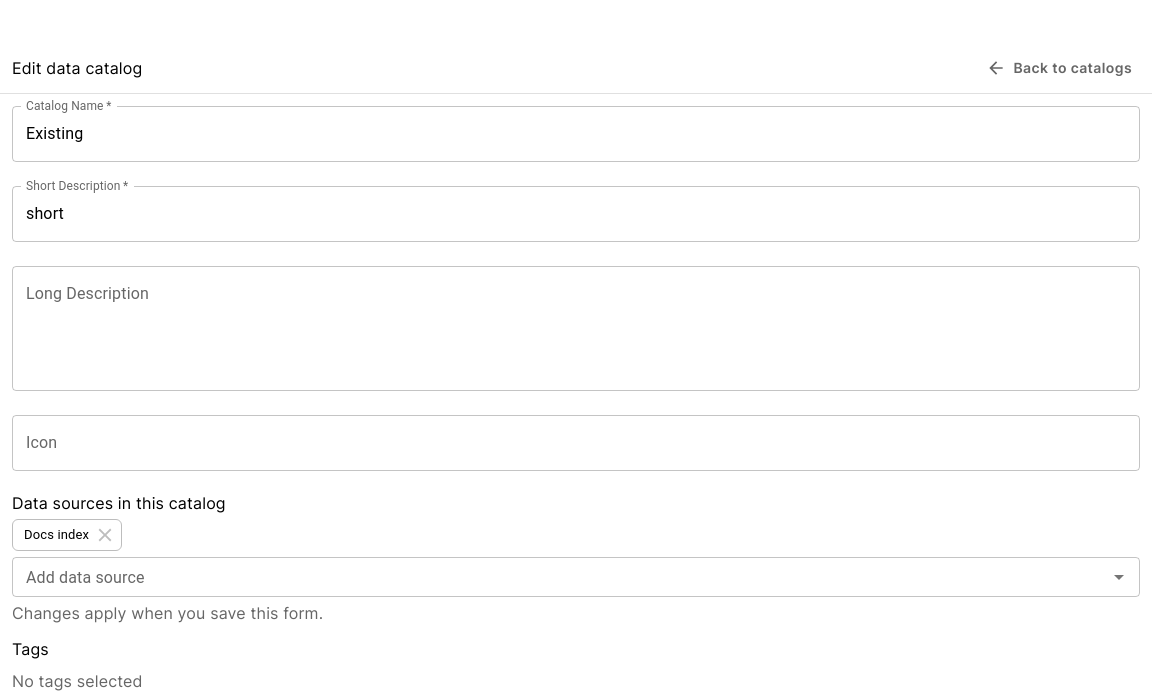
DataCatalogForm unsaved changes › loading an existing catalog with its members is not a change; a picker change is
Check: the field showing "Existing" is shown, box [12,106,1140,162]
Click the button named "Remove Docs index" at (105, 534), box [94,524,116,546]
(page scrolled)
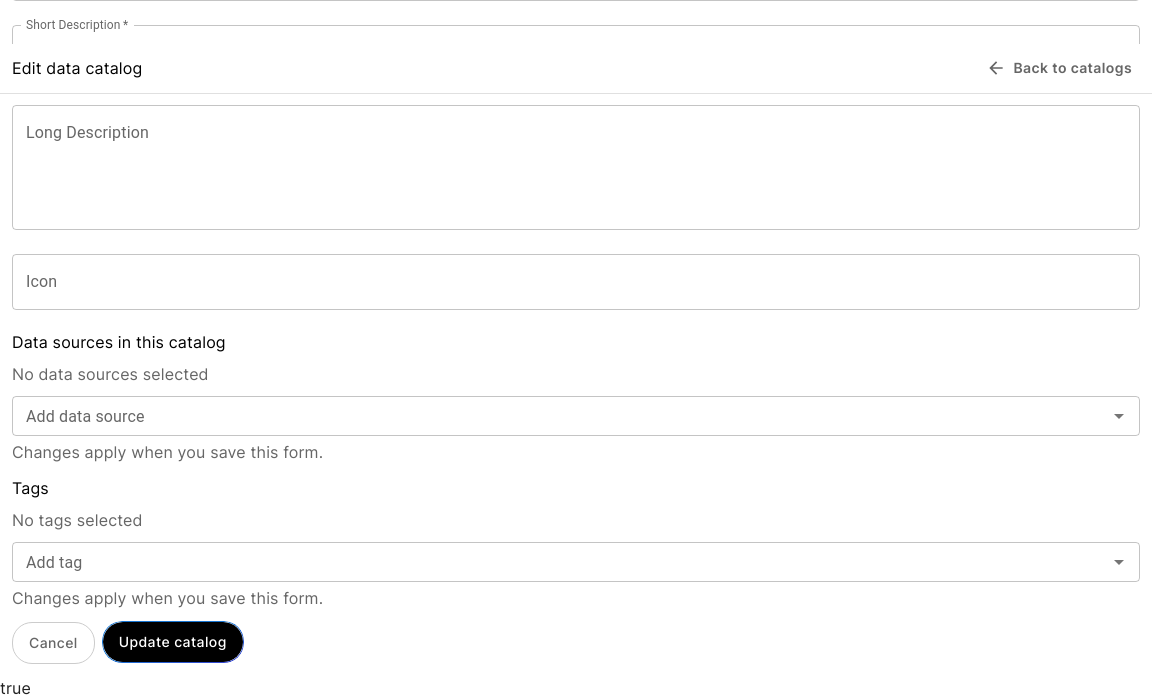
Check: the text with test id "registry-dirty" reads "true", box [0,678,31,698]
Click the button "Cancel" at (53, 643), box [12,622,95,664]
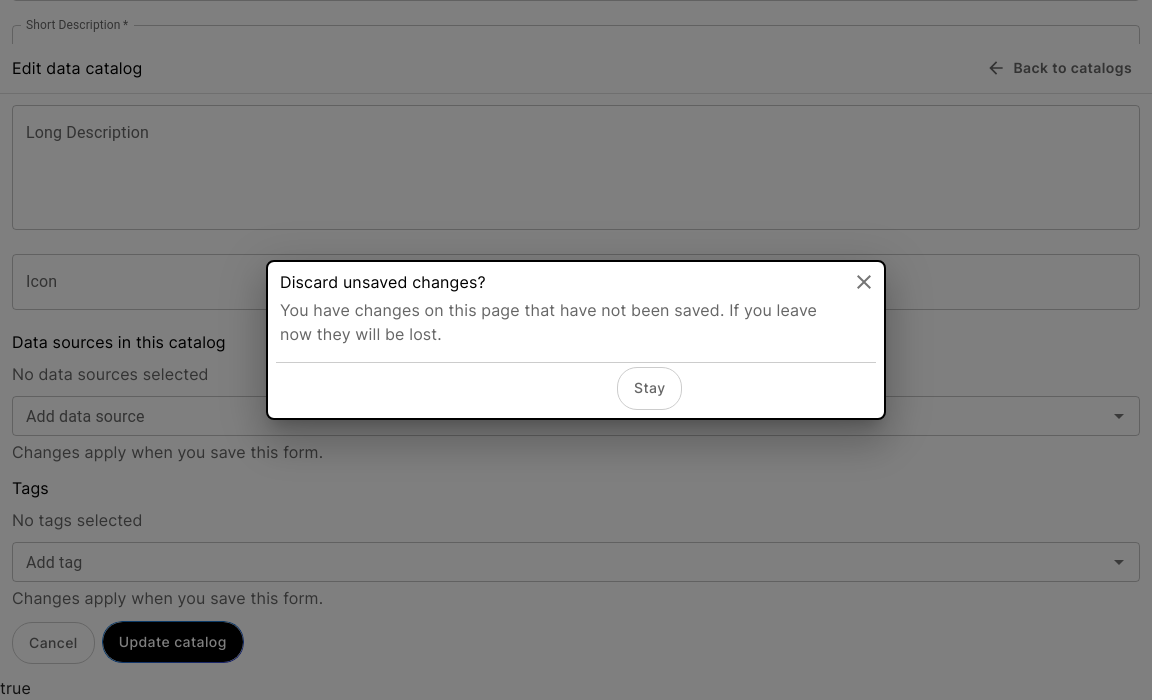
Check: the dialog with test id "unsaved-changes-dialog" is shown, box [266,260,886,420]
